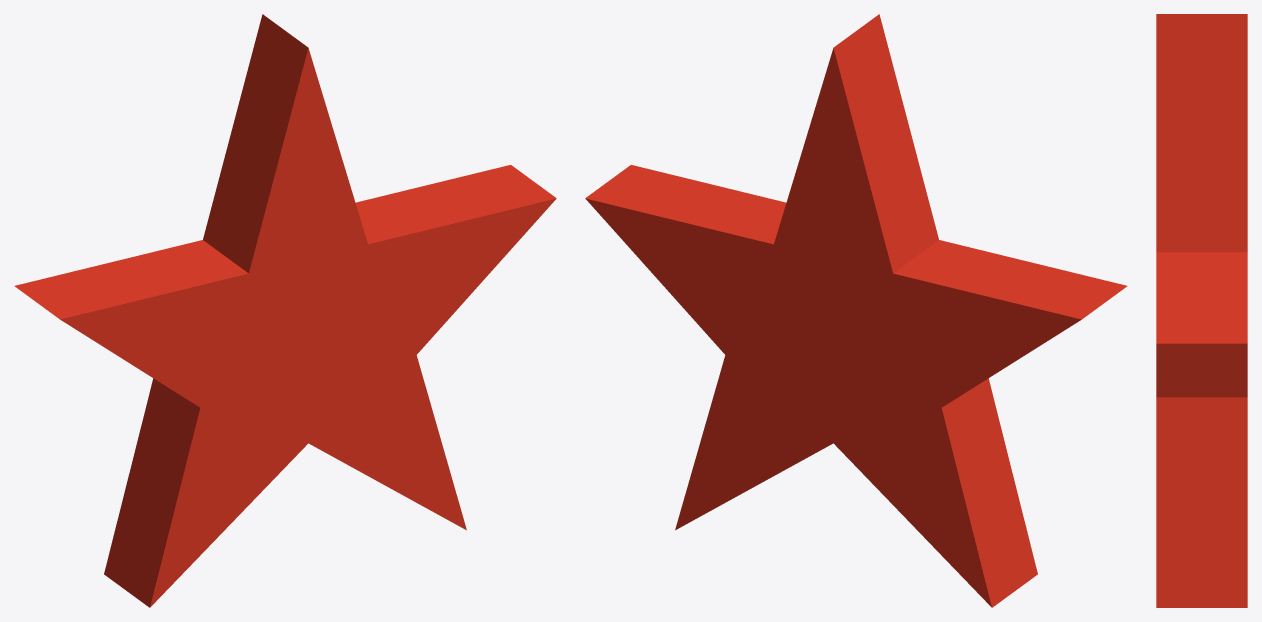
The model's file is Icon_Star_01.fbx.
The picture shows the model from 3 angles, left to right: view 1: azimuth 30°, elevation 25°; view 2: azimuth 150°, elevation 25°; view 3: azimuth 270°, elevation 25°; orthographic projection.
Parts seen in each view (by area): view 1: Icon_Star_01; view 2: Icon_Star_01; view 3: Icon_Star_01.
Part boxes in pixels (x1,y1,x2,y2): Icon_Star_01: (14,14,556,607); Icon_Star_01: (585,14,1127,607); Icon_Star_01: (1156,14,1247,607).
Bounding box in the file's own units: 75.27 × 75.53 × 12.06.
